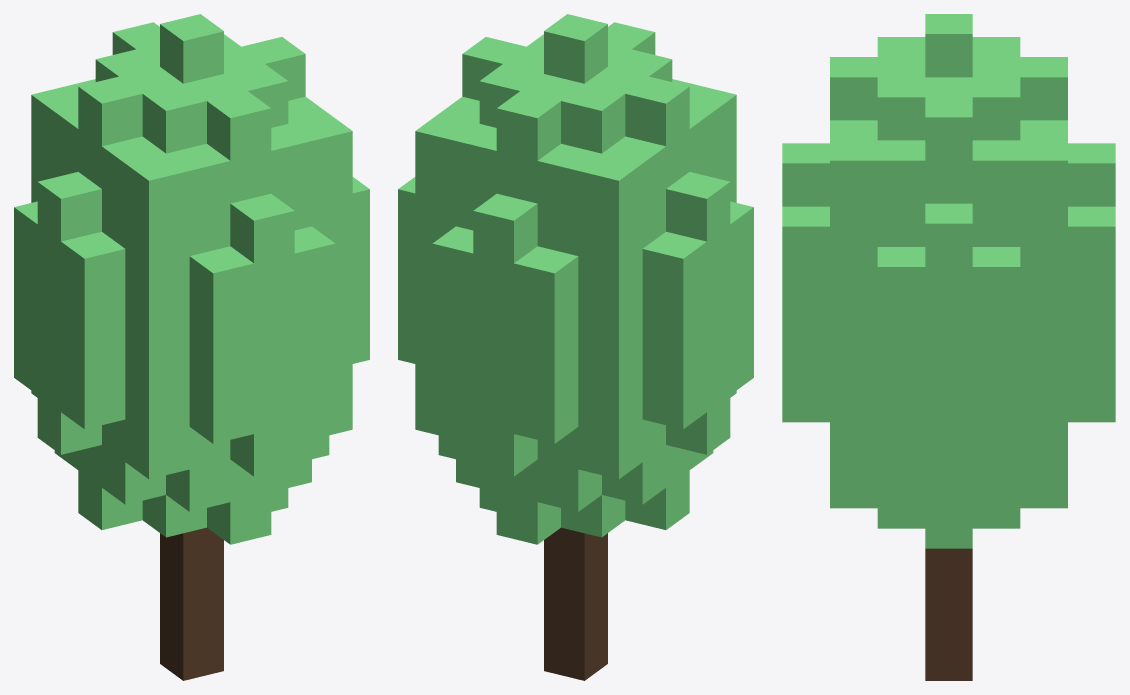
File: tree6.fbx
The picture shows the model from 3 angles, left to right: view 1: azimuth 30°, elevation 25°; view 2: azimuth 150°, elevation 25°; view 3: azimuth 270°, elevation 25°; orthographic projection.
Parts seen in each view (by area): view 1: Sphere.011; view 2: Sphere.011; view 3: Sphere.011.
Boxes of the visible parts, x1=… form: Sphere.011: x1=14, y1=14, x2=369, y2=680; Sphere.011: x1=398, y1=14, x2=753, y2=680; Sphere.011: x1=782, y1=14, x2=1115, y2=680.
Size of the model in its own units: 504 by 1081 by 504.
